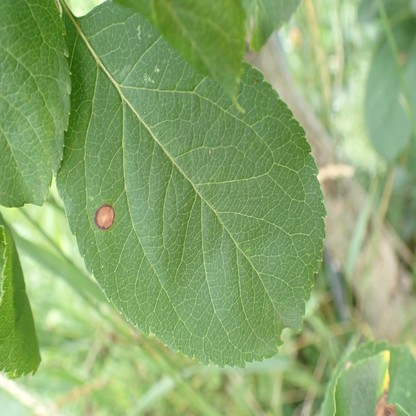frogeye_leaf_spot: (94, 204, 115, 229)
